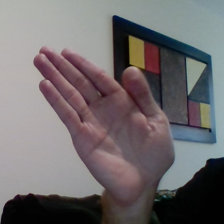left: (26, 17, 193, 200)
